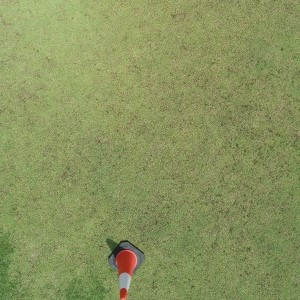traffic cone: (107, 240, 145, 299)
